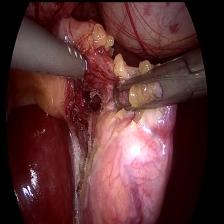Grasper: (111, 51, 184, 111)
Irrigator: (51, 34, 86, 89)
